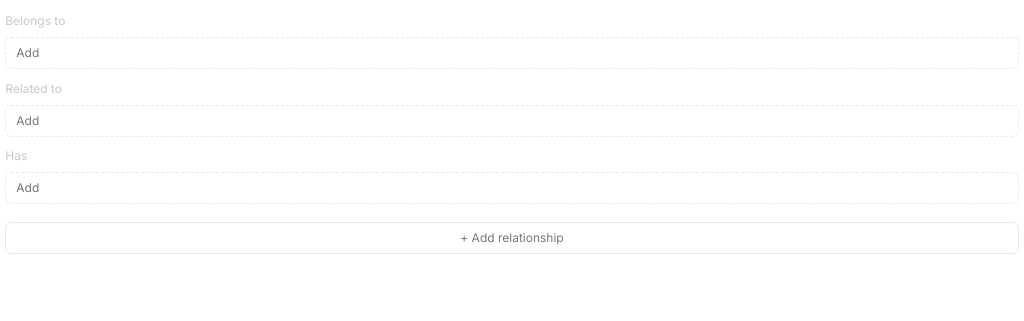
Test: DynamicRelationshipsPanel › opens add relationship form when button clicked
The width and height of the screenshot is (1024, 321).
What coordinates should you click on to do the following:
click the button "+ Add relationship"
I would click on:
 (512, 238)
Its box is x1=5 y1=222 x2=1019 y2=254.
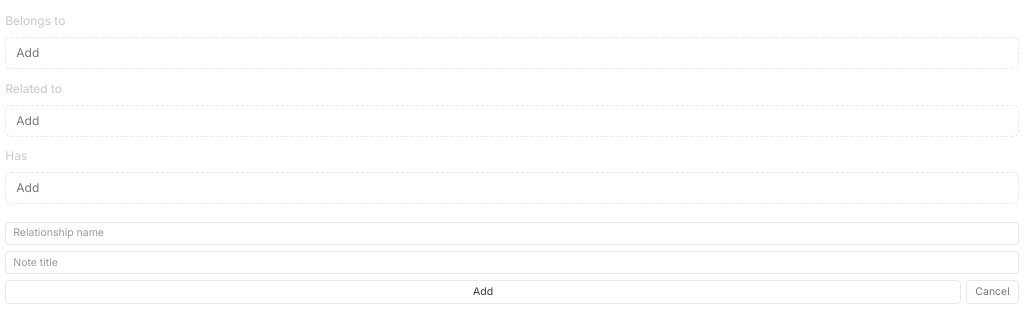
Expected: the field with placeholder "Relationship name" is shown, x1=5 y1=222 x2=1019 y2=244
Expected: the field with placeholder "Note title" is shown, x1=5 y1=251 x2=1019 y2=274
